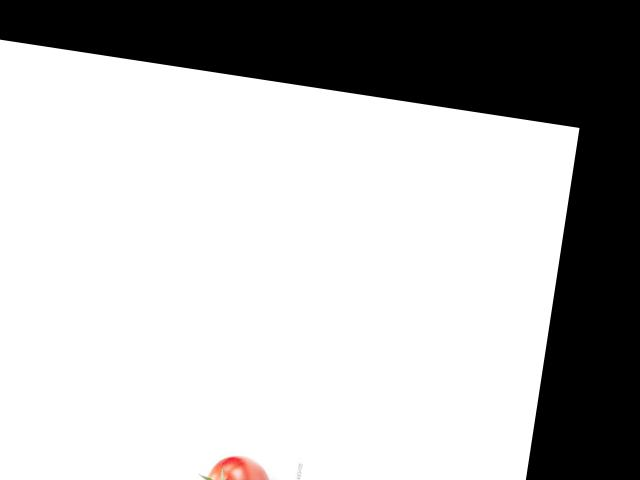tomato: (201, 451, 275, 480)
